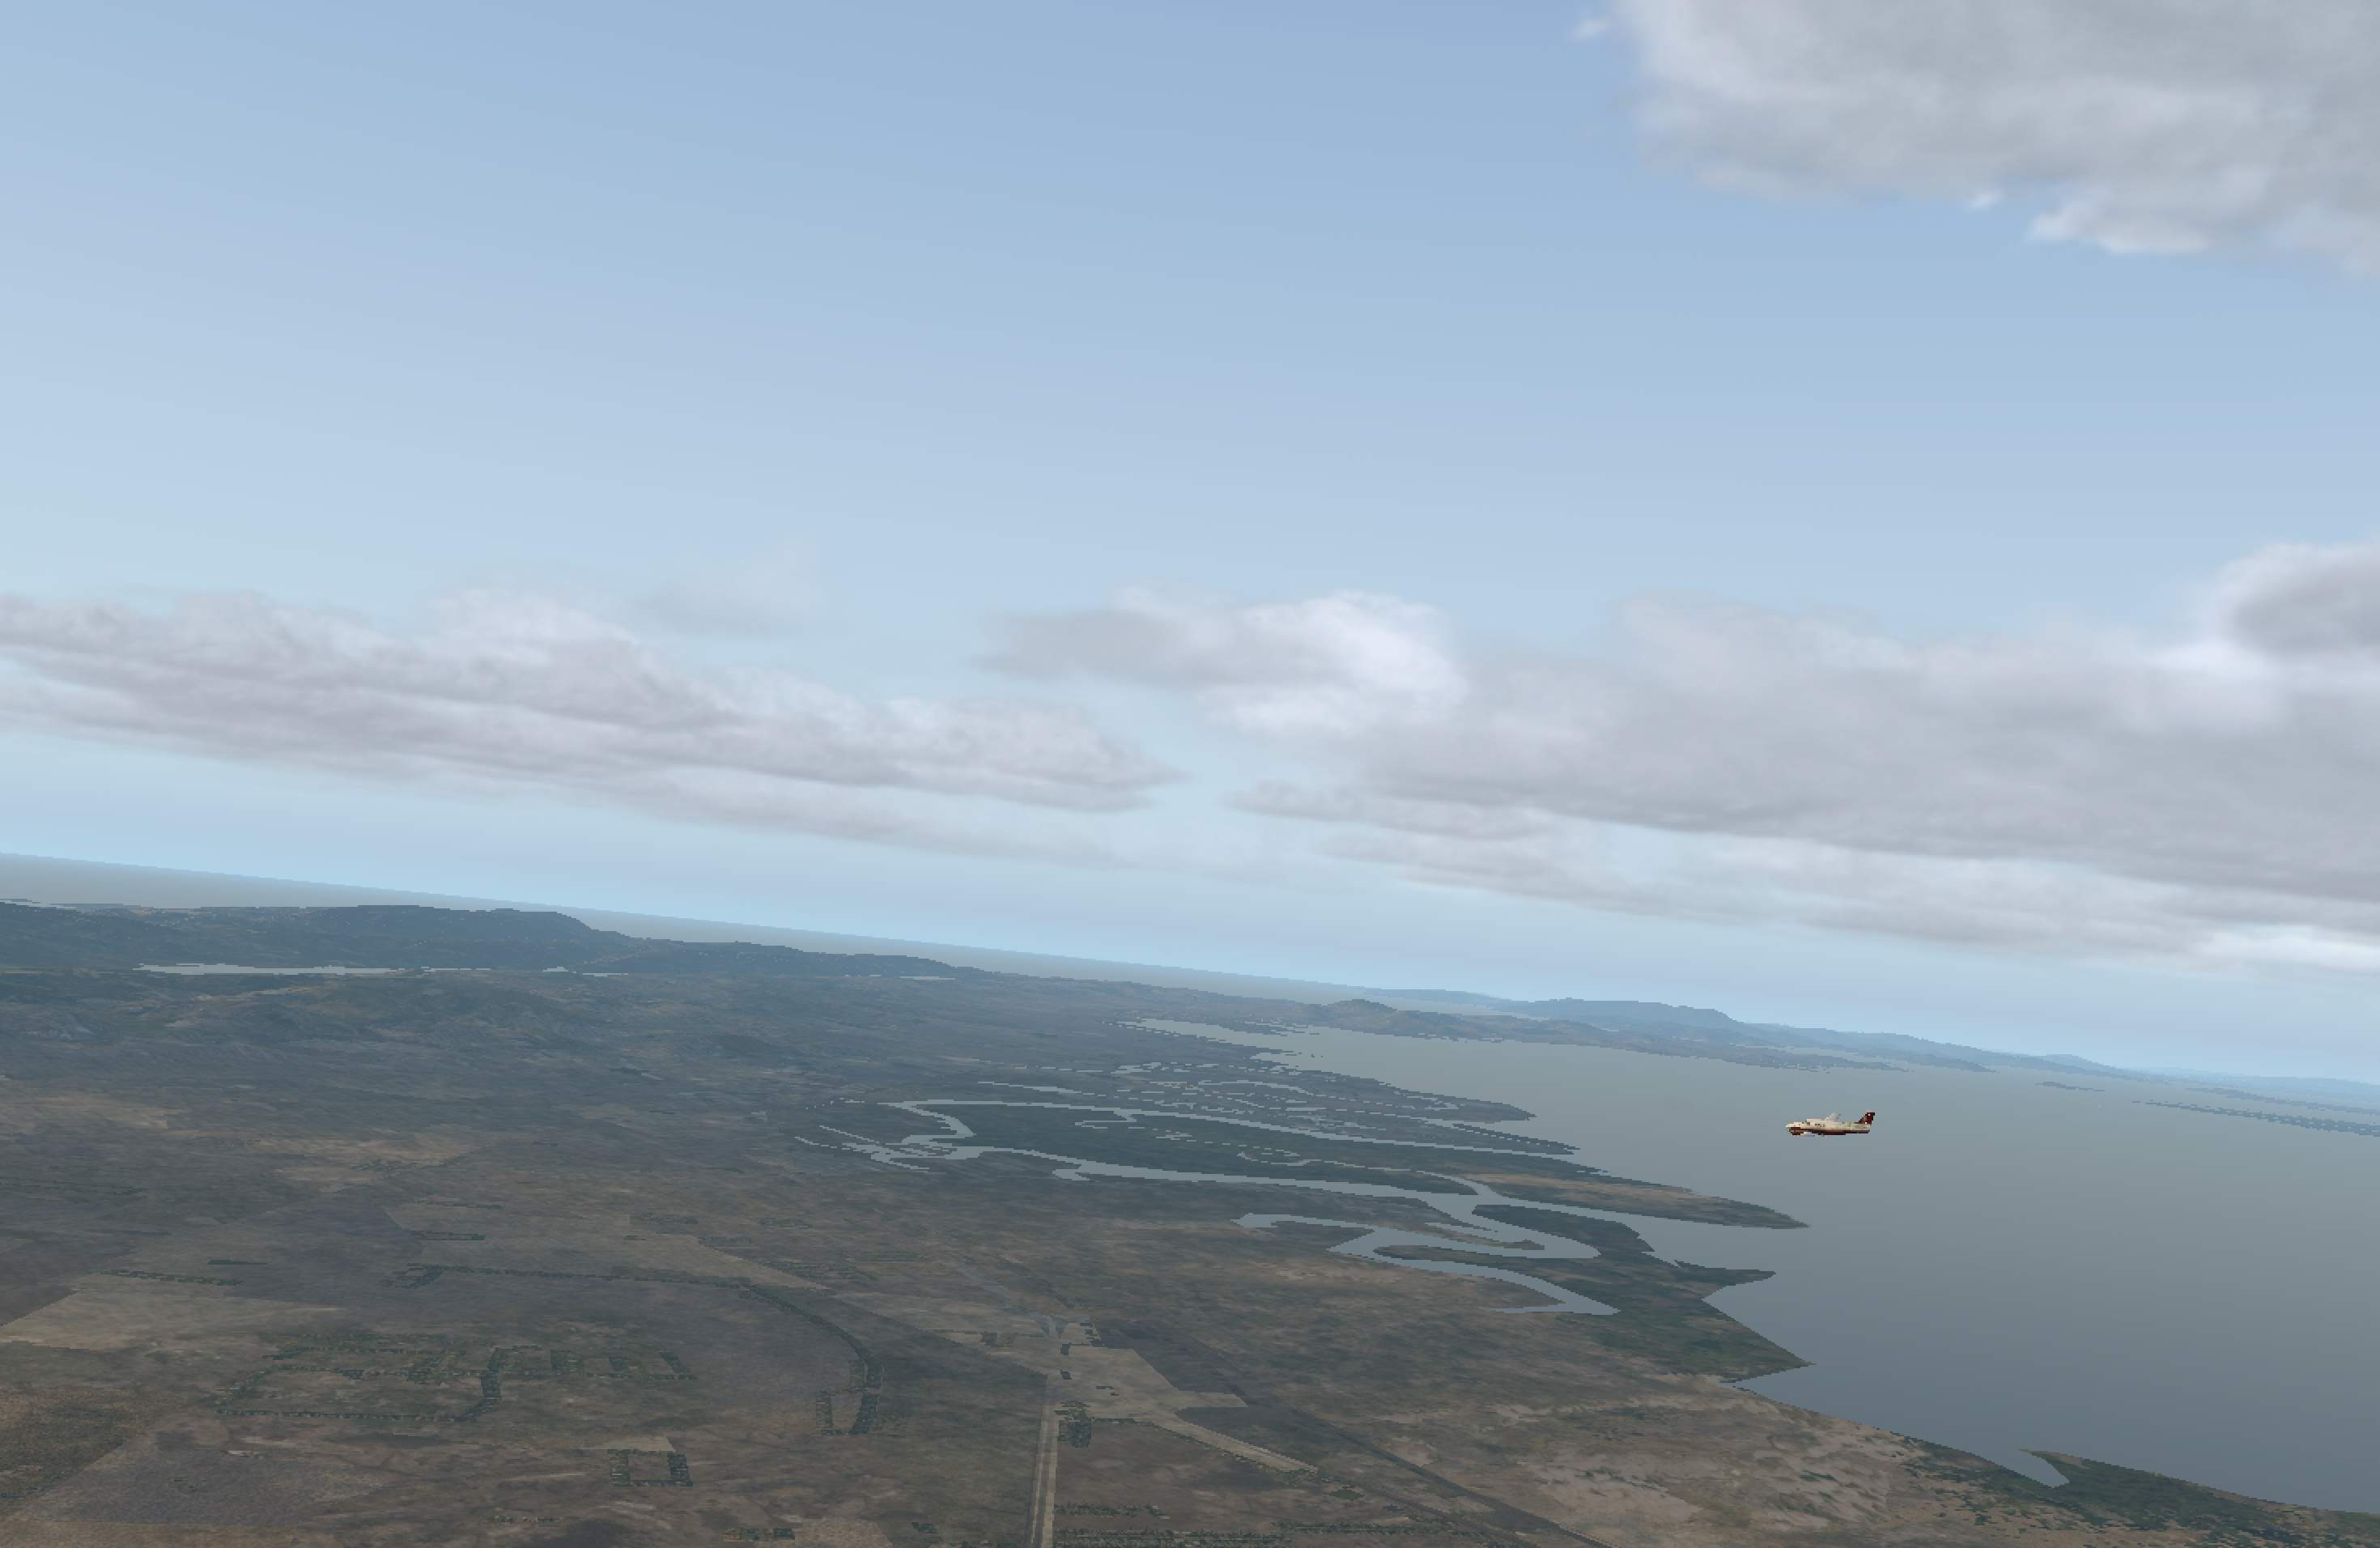aircraft: (1756, 1109, 1875, 1154)
